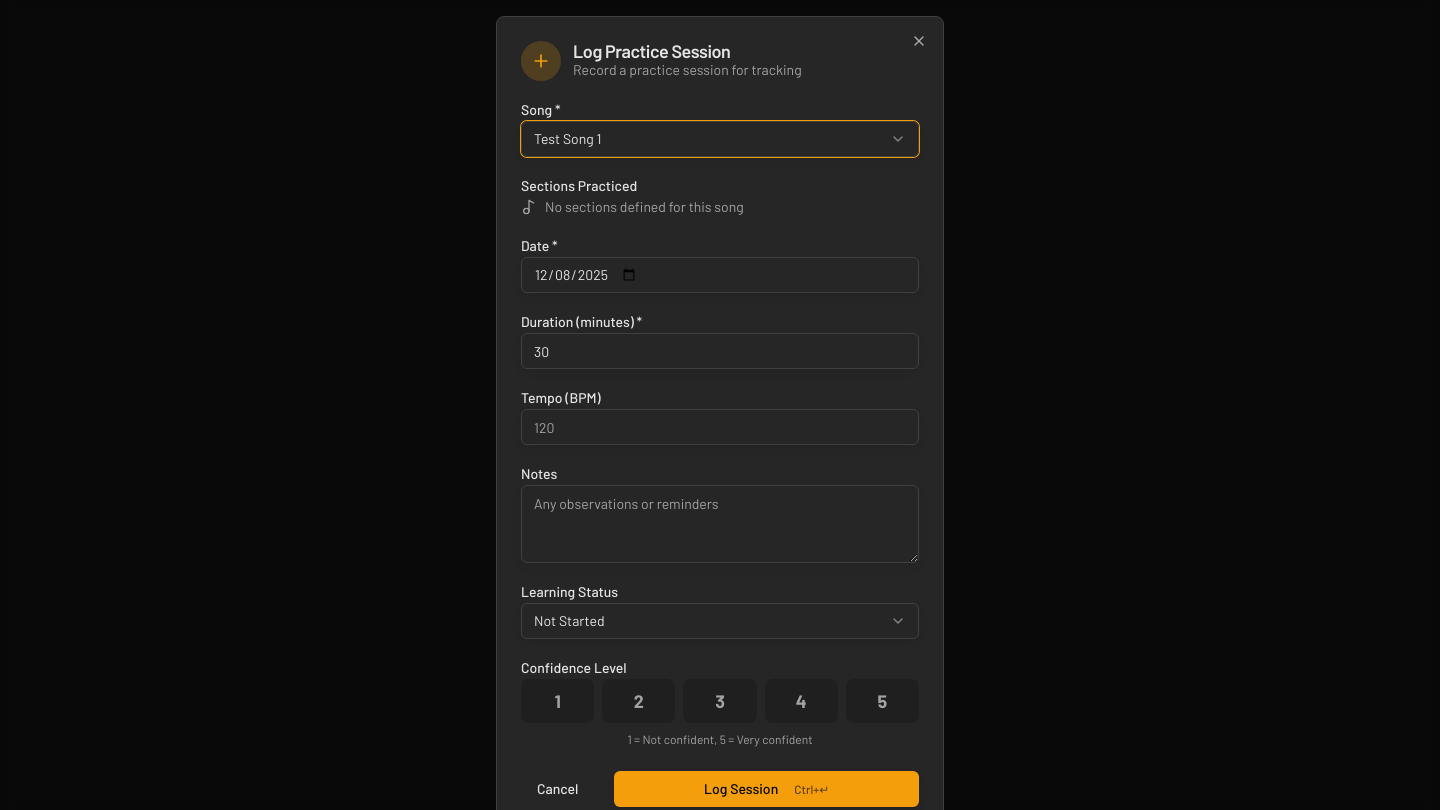
LogPracticeModal › successful submission › should show error message when submission fails
The image size is (1440, 810).
What coordinates should you click on to do the following:
click the button "Log Session Ctrl+↵"
I would click on:
 (767, 789)
Its box is [614,771,919,807].
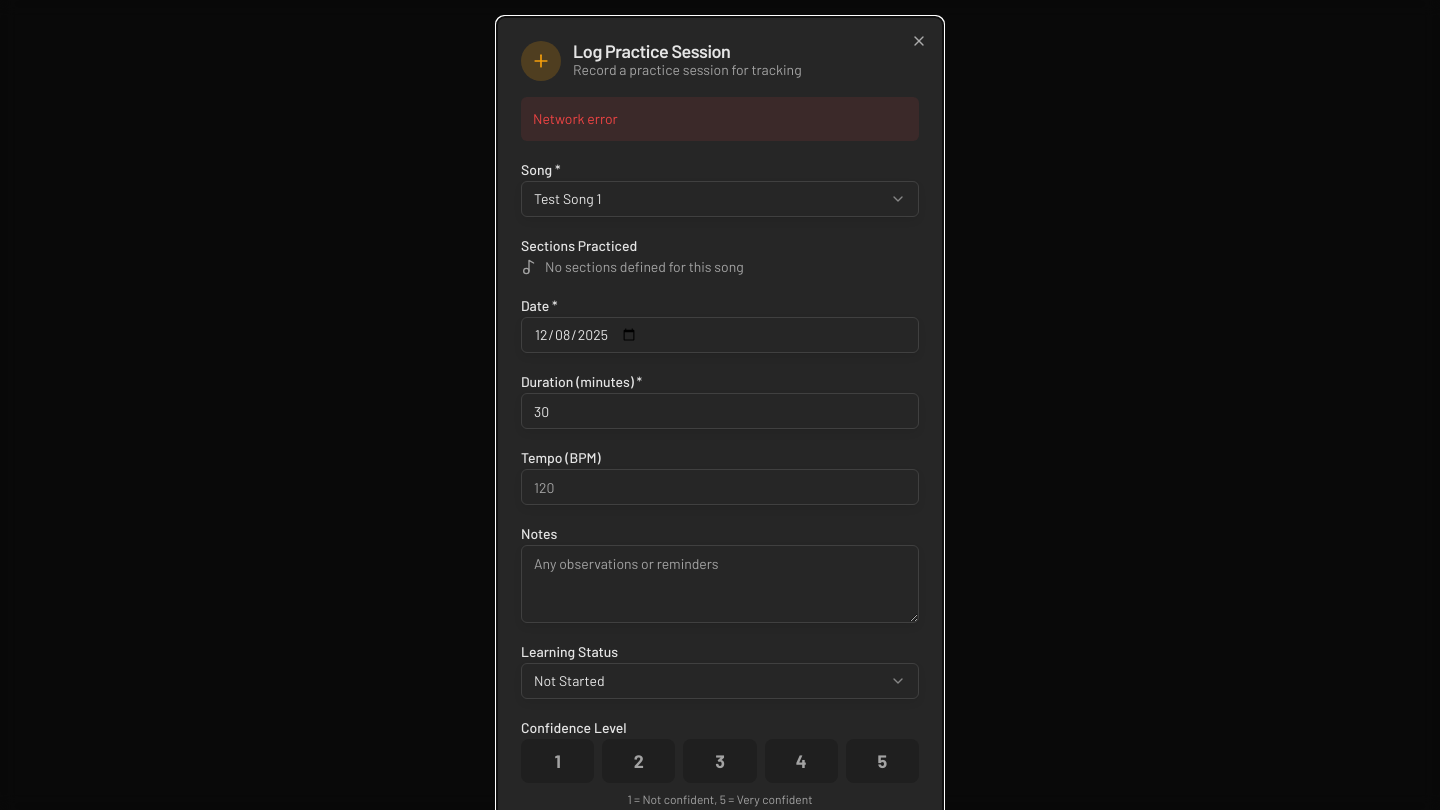
Result: the text "Network error" is shown at [521,97,919,141]
